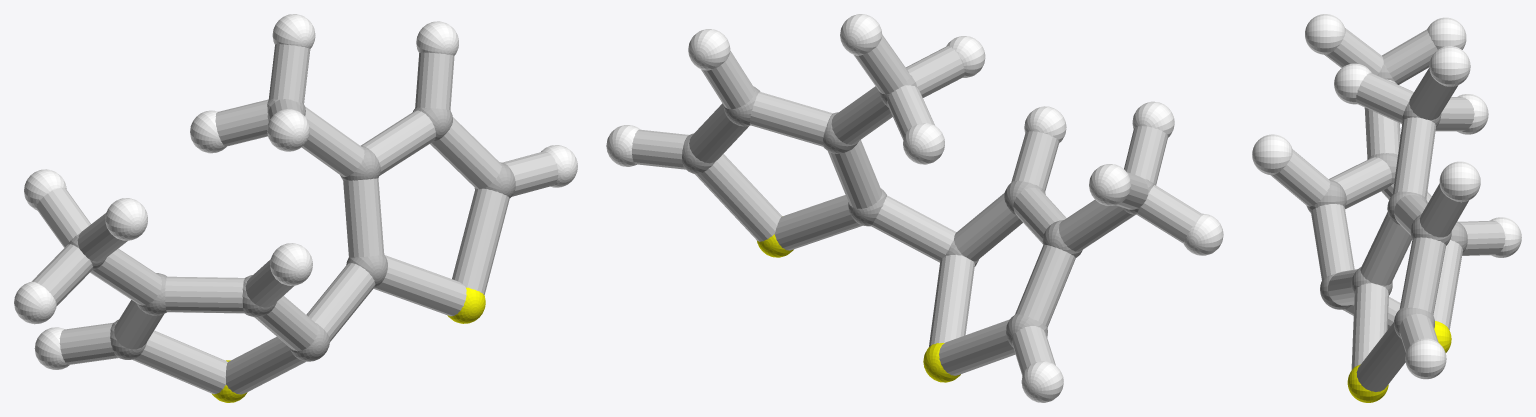
Rendered from Methylthiophene_Phi_60_Theta_130_Methylthiophene.glb.
3 renders of one model, left to right at view 1: azimuth 30°, elevation 25°; view 2: azimuth 150°, elevation 25°; view 3: azimuth 270°, elevation 25°, orthographic. The views are drawn at different scales.
Parts seen in each view (by area): view 1: grp7965, grp3621, grp1, grp7241; view 2: grp7965, grp3621, grp1, grp7241; view 3: grp7965, grp3621, grp1, grp7241.
Boxes of the visible parts, bbox=[...] form: grp7965: bbox=[32, 44, 558, 394]; grp3621: bbox=[14, 14, 577, 369]; grp1: bbox=[68, 99, 515, 361]; grp7241: bbox=[212, 287, 485, 402]; grp7965: bbox=[631, 35, 1201, 375]; grp3621: bbox=[606, 14, 1223, 402]; grp1: bbox=[682, 75, 1154, 347]; grp7241: bbox=[757, 234, 960, 382]; grp7965: bbox=[1271, 28, 1505, 391]; grp3621: bbox=[1252, 14, 1521, 379]; grp1: bbox=[1306, 63, 1467, 338]; grp7241: bbox=[1347, 321, 1451, 402].
Size of the model in its own units: 9.5 by 5.54 by 3.92.
